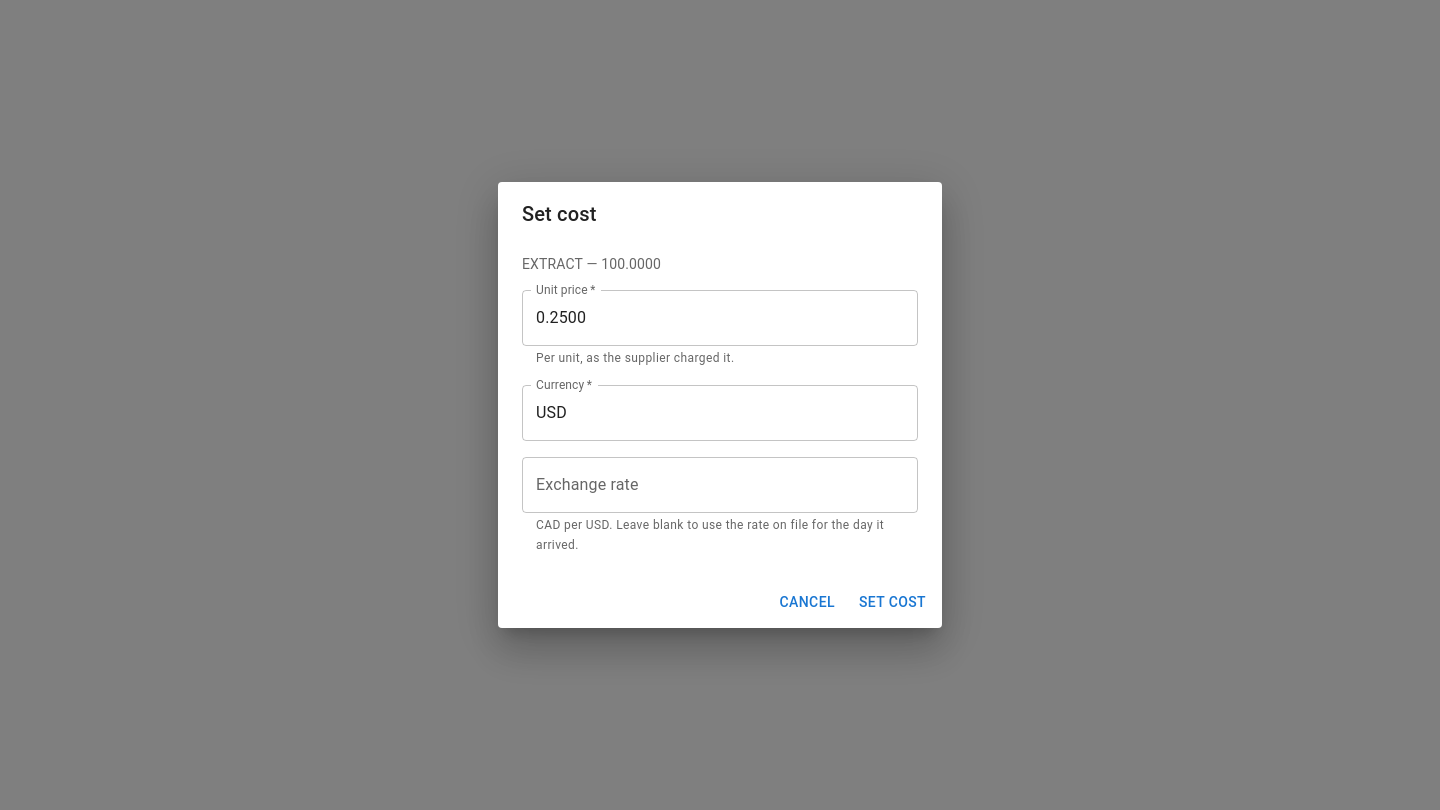
SetCostDialog › renders a refusal from the server rather than swallowing it
Click the button "Set cost": click(892, 602) left=851, top=584, right=934, bottom=620
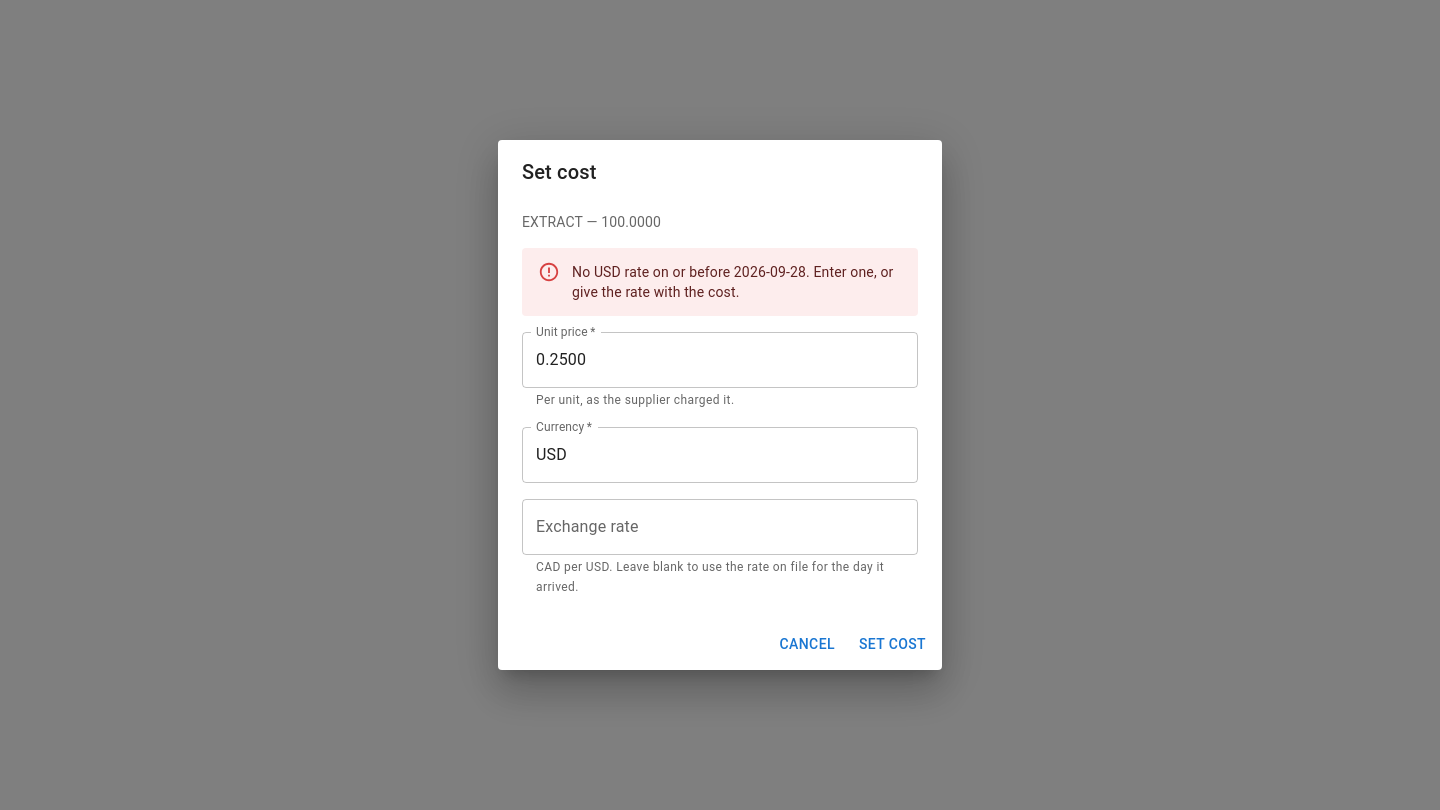
Check: the message named "Error" shows "No USD rate on or before 2026-09-28", box left=522, top=248, right=918, bottom=316
